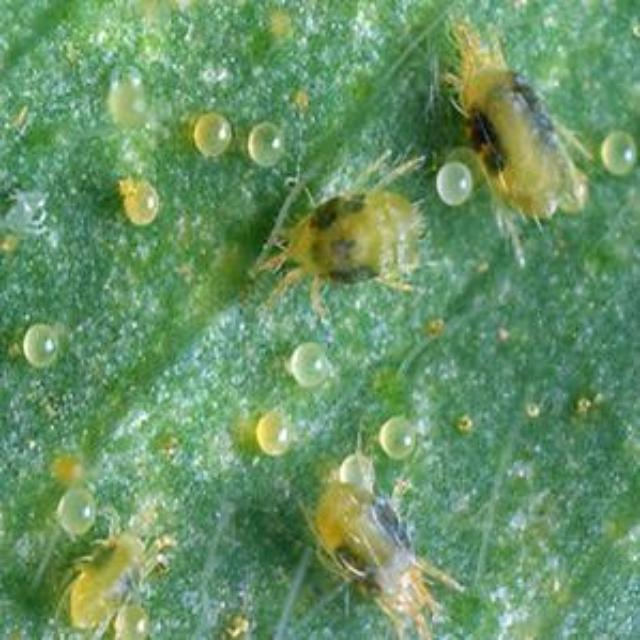spider mite: (424, 35, 604, 258), (242, 181, 450, 355), (277, 460, 457, 640), (38, 492, 180, 640)
